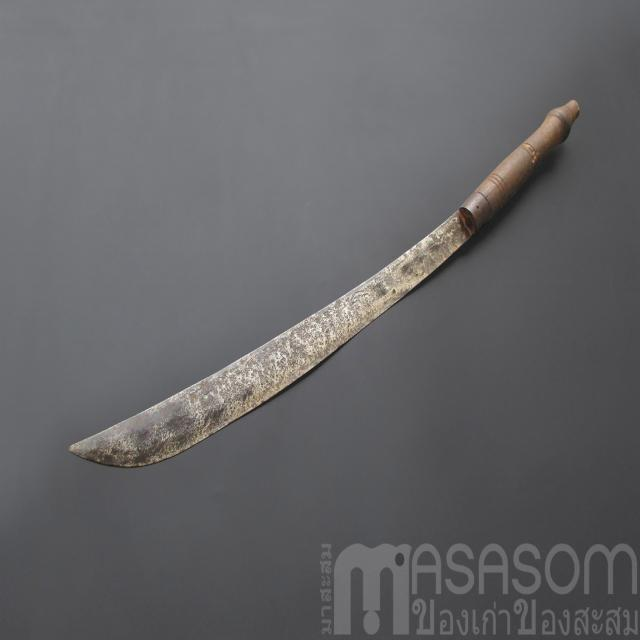long sword: (67, 96, 583, 467)
